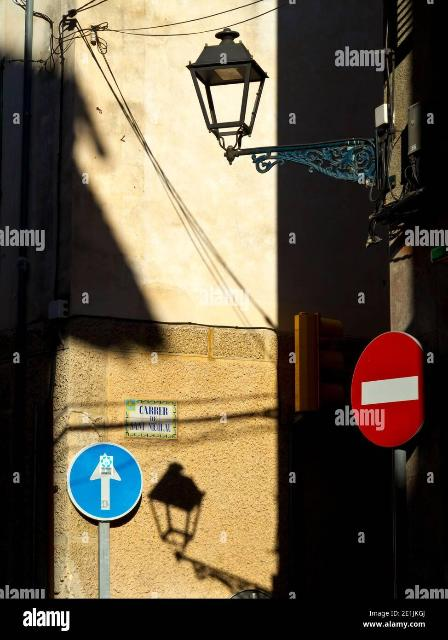B2: (350, 330, 426, 448)
